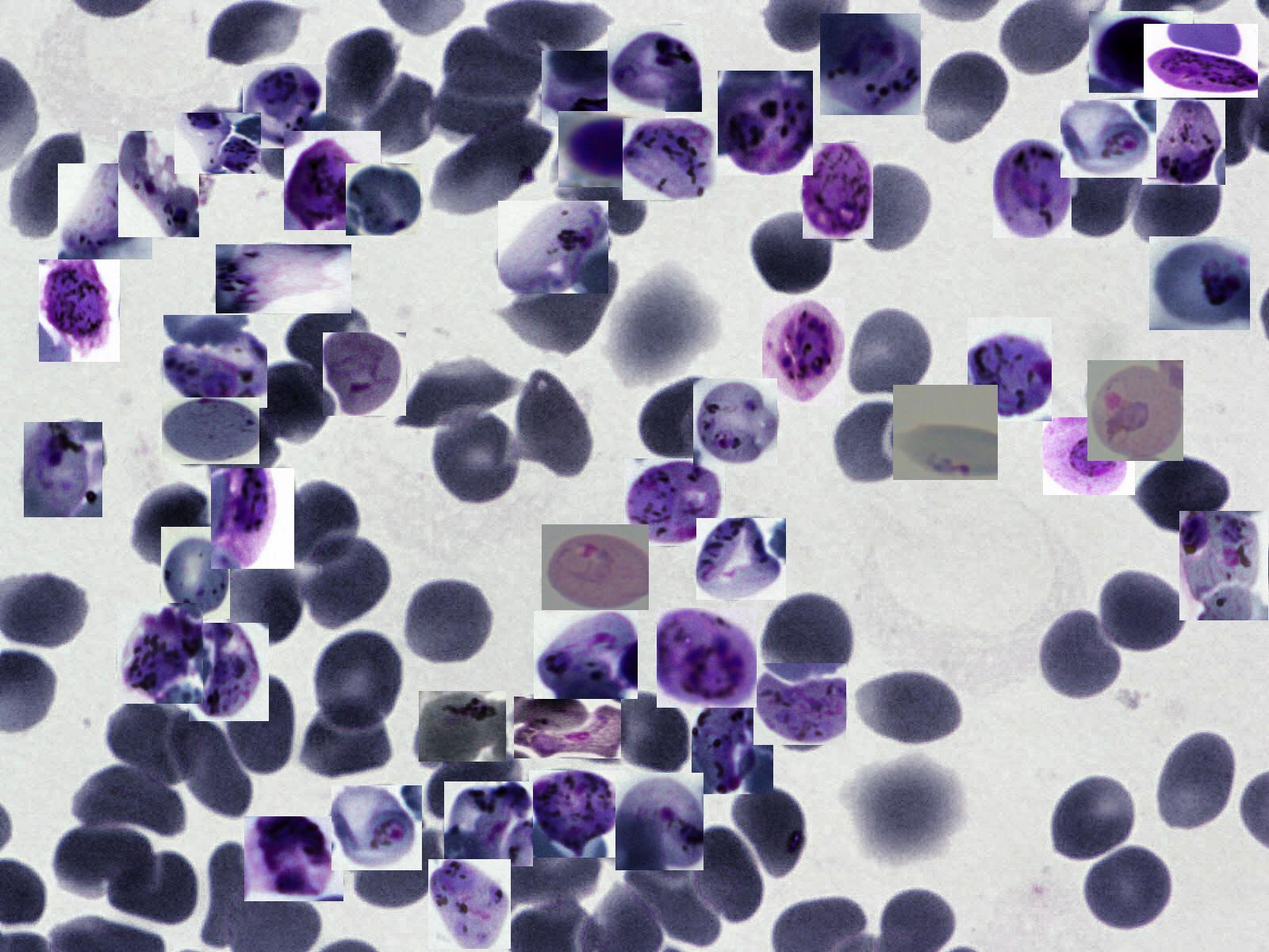Infected: (820, 13, 921, 115), (498, 201, 608, 294), (657, 608, 757, 708), (893, 385, 998, 480), (719, 71, 813, 175), (1179, 511, 1268, 620), (1087, 360, 1183, 461), (163, 315, 267, 408), (284, 131, 381, 230), (1149, 236, 1250, 330), (216, 244, 351, 313), (542, 524, 649, 610), (534, 611, 638, 699), (58, 163, 152, 259), (762, 298, 845, 406), (624, 459, 725, 546), (968, 317, 1052, 421), (117, 603, 203, 704), (615, 773, 704, 870), (118, 131, 199, 237), (529, 770, 626, 858), (1089, 11, 1193, 93), (1144, 24, 1258, 98), (244, 816, 343, 901), (211, 468, 294, 569), (39, 259, 120, 362), (608, 25, 702, 112), (558, 111, 665, 187), (189, 623, 269, 721), (993, 139, 1072, 238), (623, 118, 717, 200), (332, 785, 422, 870), (753, 664, 846, 746), (444, 781, 533, 866), (1060, 100, 1156, 178), (428, 859, 511, 949), (24, 422, 102, 517), (693, 378, 777, 466), (696, 518, 786, 600), (1043, 417, 1135, 495), (692, 707, 773, 795), (1142, 100, 1225, 185), (542, 51, 636, 126), (323, 332, 406, 416), (243, 64, 326, 148), (803, 143, 873, 239), (514, 697, 621, 758), (162, 397, 259, 464), (161, 527, 230, 619), (419, 691, 506, 762), (346, 163, 420, 236), (174, 113, 261, 174)
Uninfected: (430, 120, 553, 217), (504, 258, 623, 351), (293, 531, 396, 628), (762, 587, 857, 692), (626, 847, 723, 949), (427, 407, 523, 509), (920, 45, 1016, 147), (855, 667, 971, 751), (511, 370, 597, 481), (399, 576, 499, 669), (171, 711, 255, 821), (309, 633, 402, 732), (1045, 773, 1141, 867), (844, 304, 937, 401), (396, 355, 523, 426), (1035, 607, 1126, 705), (6, 129, 87, 239), (343, 66, 443, 155), (1136, 452, 1238, 539), (845, 155, 933, 255), (498, 816, 600, 901), (1095, 566, 1191, 656), (270, 476, 368, 562), (323, 23, 402, 129), (637, 373, 730, 463), (1155, 732, 1236, 835), (354, 831, 453, 914), (602, 690, 692, 781), (748, 209, 840, 298), (72, 767, 184, 839), (104, 693, 194, 781), (132, 482, 217, 574), (54, 823, 155, 900), (834, 397, 918, 488), (1133, 155, 1221, 241), (443, 29, 546, 102), (240, 363, 334, 442), (1179, 69, 1258, 163), (225, 673, 297, 773), (691, 823, 763, 923), (1065, 139, 1137, 239), (1086, 846, 1171, 930), (286, 309, 370, 393), (997, 0, 1089, 76), (224, 555, 303, 643), (105, 850, 199, 923), (732, 782, 804, 877), (424, 752, 522, 820), (303, 705, 389, 779), (205, 3, 303, 67), (433, 71, 531, 134), (207, 405, 279, 489), (569, 167, 647, 237)
